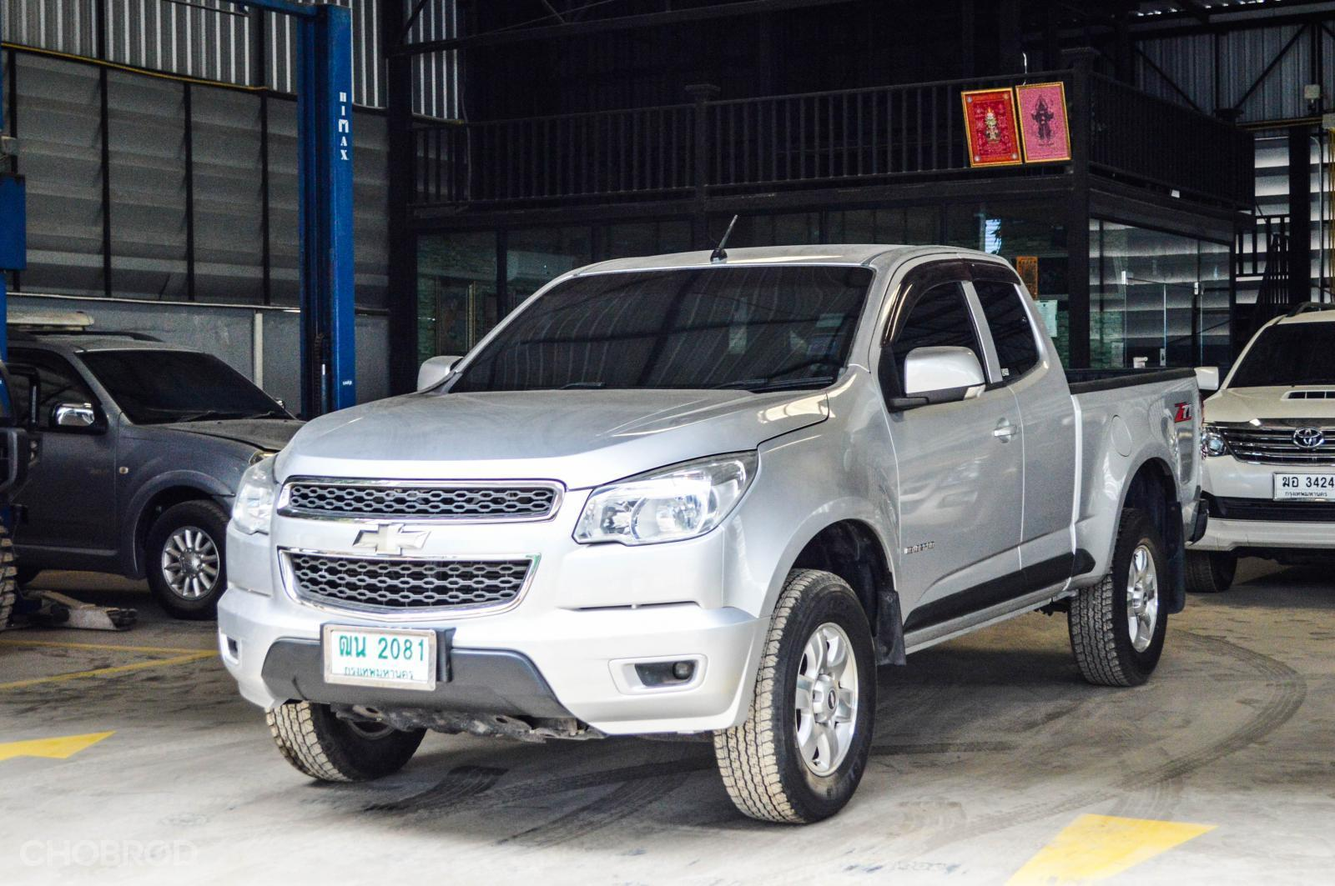license-plate: (319, 620, 444, 691)
